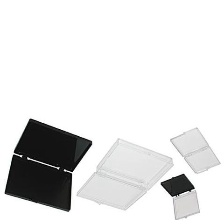plastic_box: (0, 114, 95, 216), (70, 133, 177, 216), (166, 123, 223, 178), (155, 168, 204, 224)
